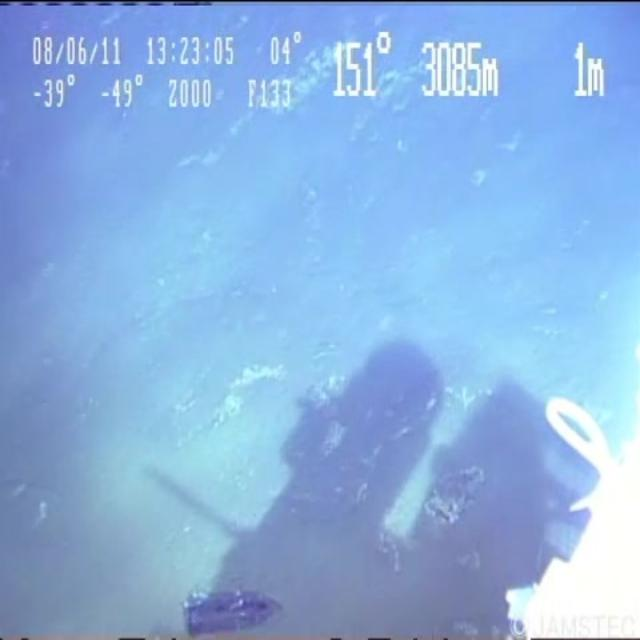Glass: (180, 560, 290, 640)
